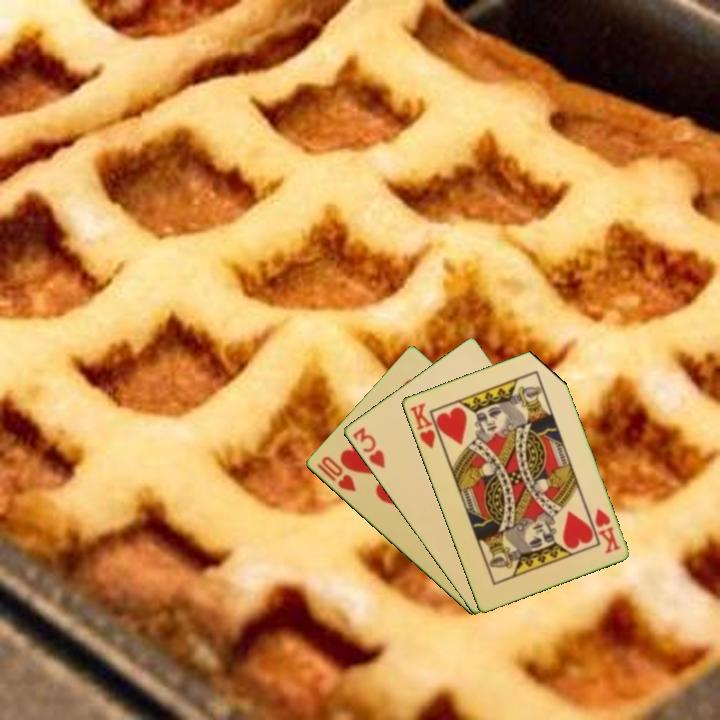10h: (317, 453, 359, 495)
3h: (348, 423, 388, 471)
Kh: (406, 399, 445, 451), (591, 505, 623, 557)
